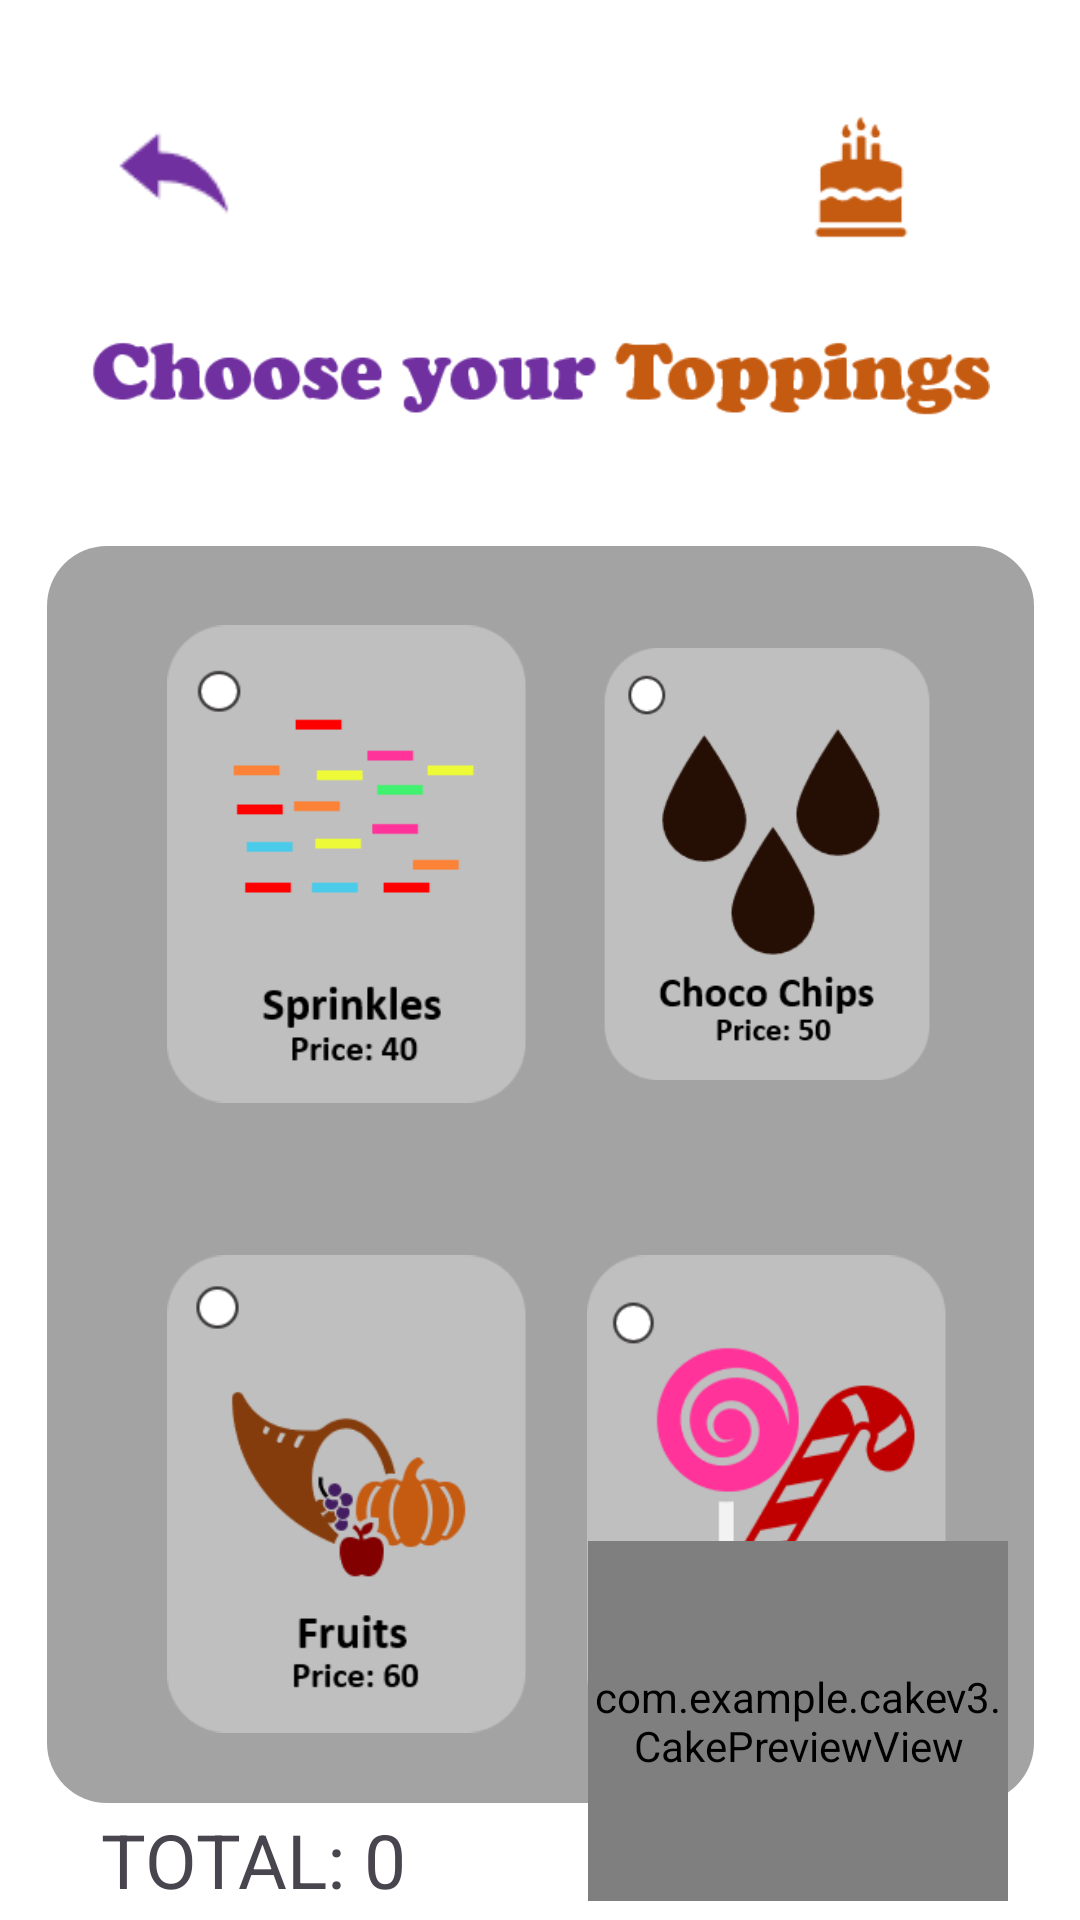

Icon bounding boxes for this 1080 × 1920 phone screenshot, format box=[x1, y1, x2, y2]:
back: box=[119, 134, 229, 213]
